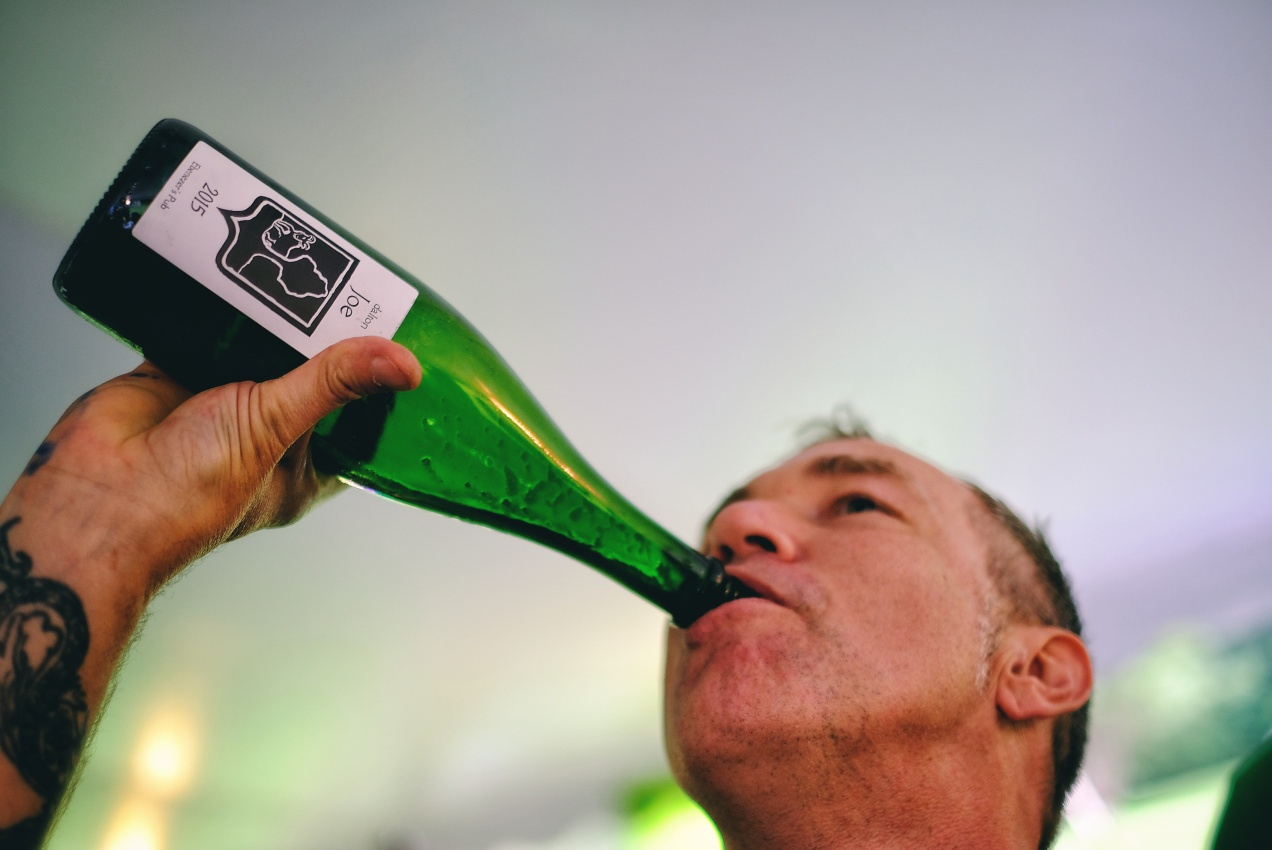beerBottle: (62, 115, 735, 614)
